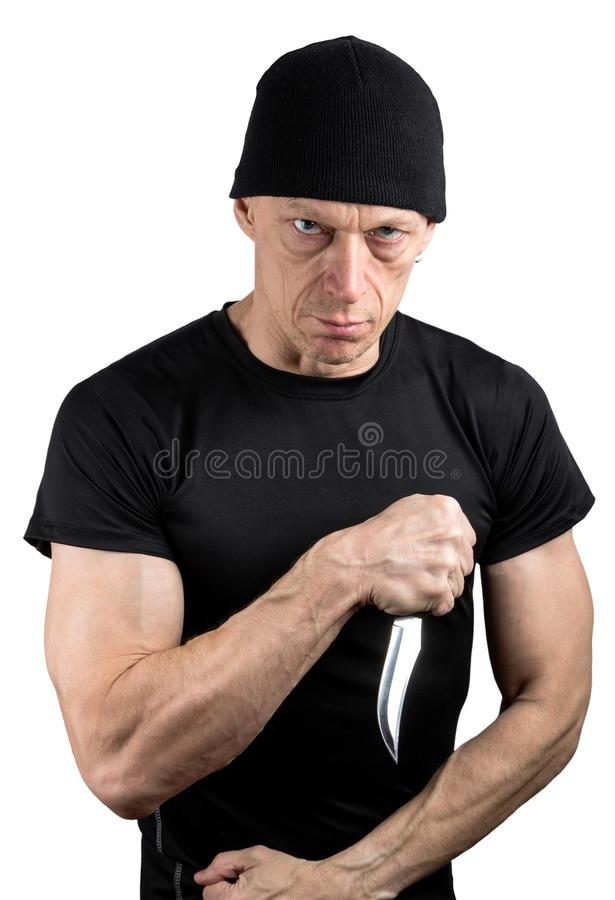criminal: (23, 28, 594, 900)
weapon: (370, 594, 430, 762)
